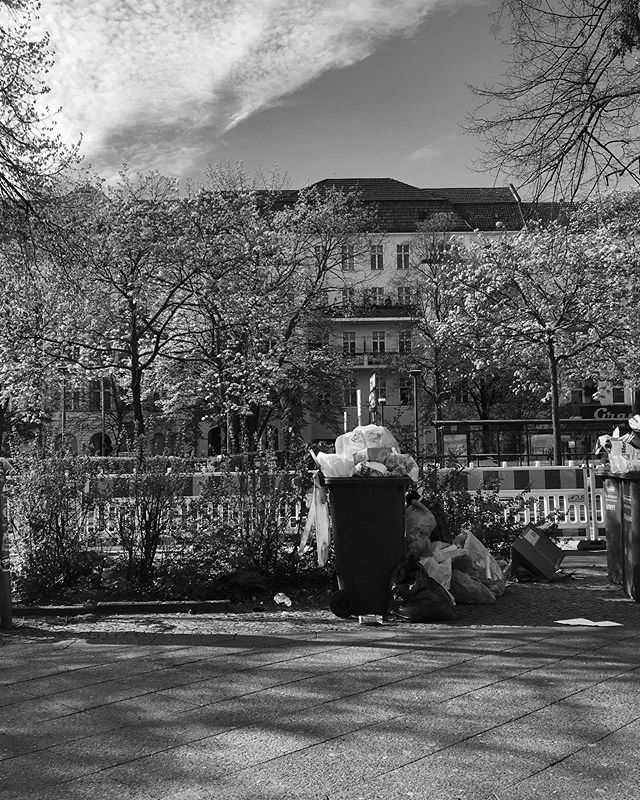building: (265, 180, 520, 466)
sky: (43, 1, 528, 180)
trash: (325, 414, 422, 481)
trash can: (310, 476, 414, 633)
tree: (1, 171, 231, 471), (410, 215, 640, 451), (190, 174, 365, 476)
